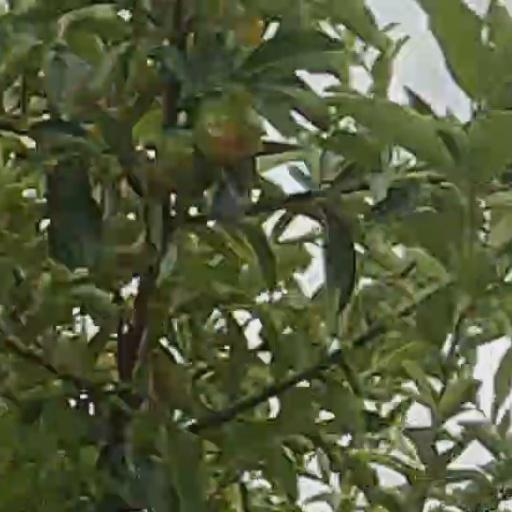acerola: (198, 103, 261, 159), (235, 14, 262, 49)
